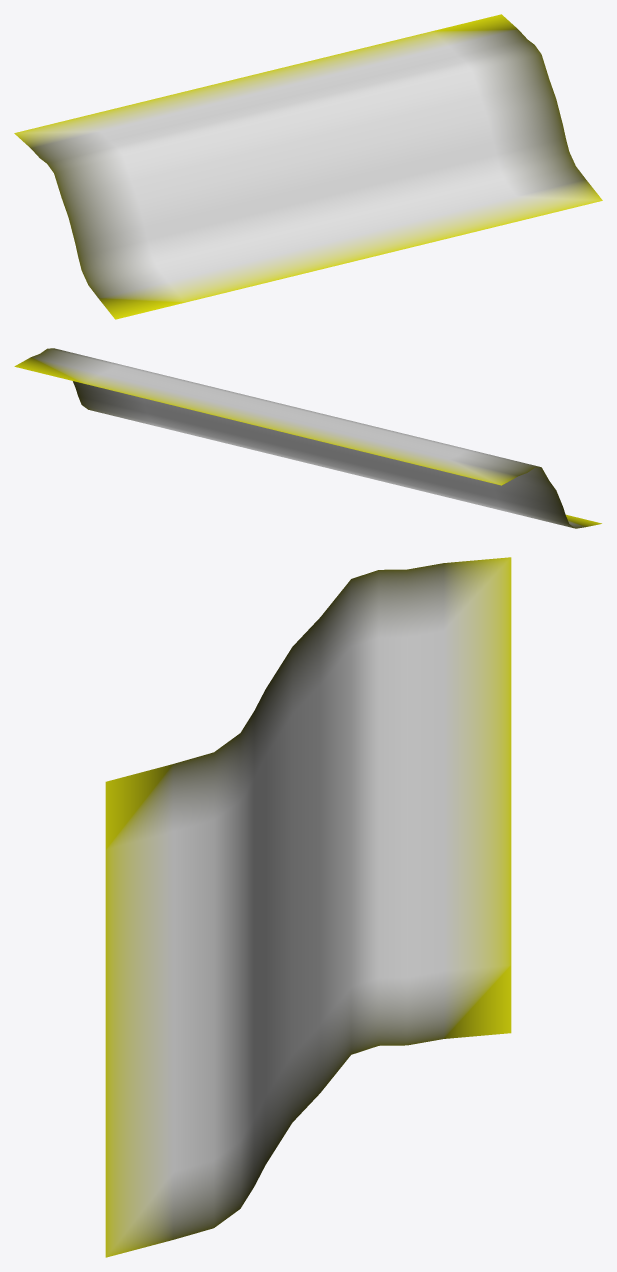
3 renders of one model, top to bottom at view 1: azimuth 30°, elevation 25°; view 2: azimuth 150°, elevation 25°; view 3: azimuth 270°, elevation 25°, orthographic. The views are drawn at different scales.
Visible parts, largest first — view 1: E_W0W2_100_A_A; view 2: E_W0W2_100_A_A; view 3: E_W0W2_100_A_A.
Part boxes in pixels (x1,y1,x2,y2): E_W0W2_100_A_A: (14, 14, 602, 319); E_W0W2_100_A_A: (14, 348, 601, 528); E_W0W2_100_A_A: (105, 557, 511, 1257).
Size of the model in its own units: 10000 by 2200 by 3600.
